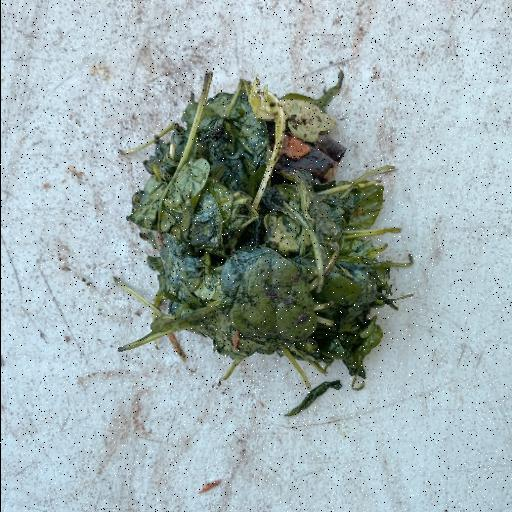Waste: (112, 68, 416, 418)
